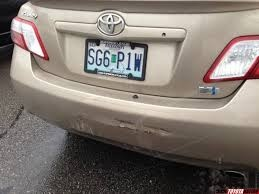Scratch: (113, 120, 169, 139), (67, 116, 93, 135)
